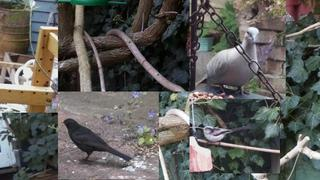blackbird: (60, 118, 132, 166)
collared dove: (196, 27, 259, 96)
long tailed tit: (202, 126, 253, 146)
